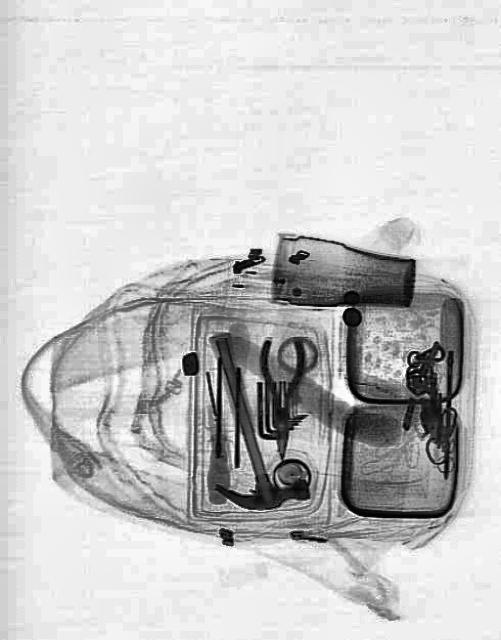Pliers: (256, 338, 304, 460)
